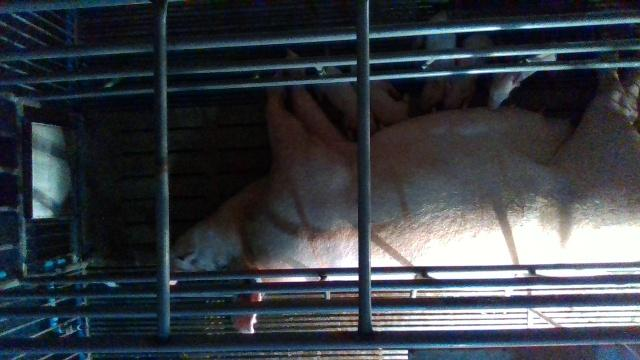piglet: (313, 67, 376, 140), (414, 10, 457, 109), (445, 33, 499, 109), (488, 55, 556, 108), (351, 65, 411, 125)
sow-sleep-lactate: (171, 46, 640, 333)
